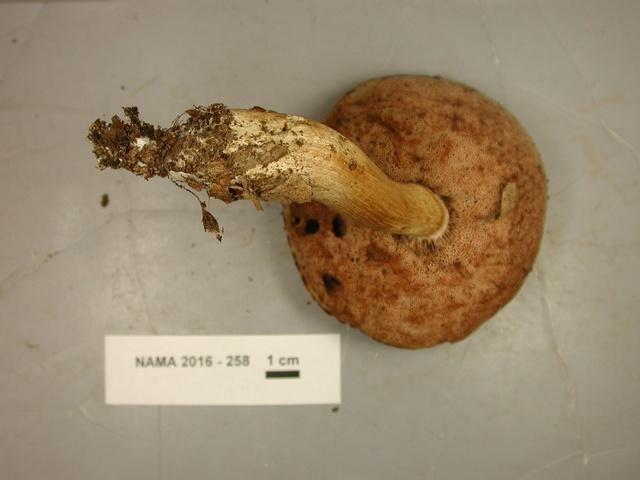Non-edible Mushroom: (61, 47, 564, 334)
